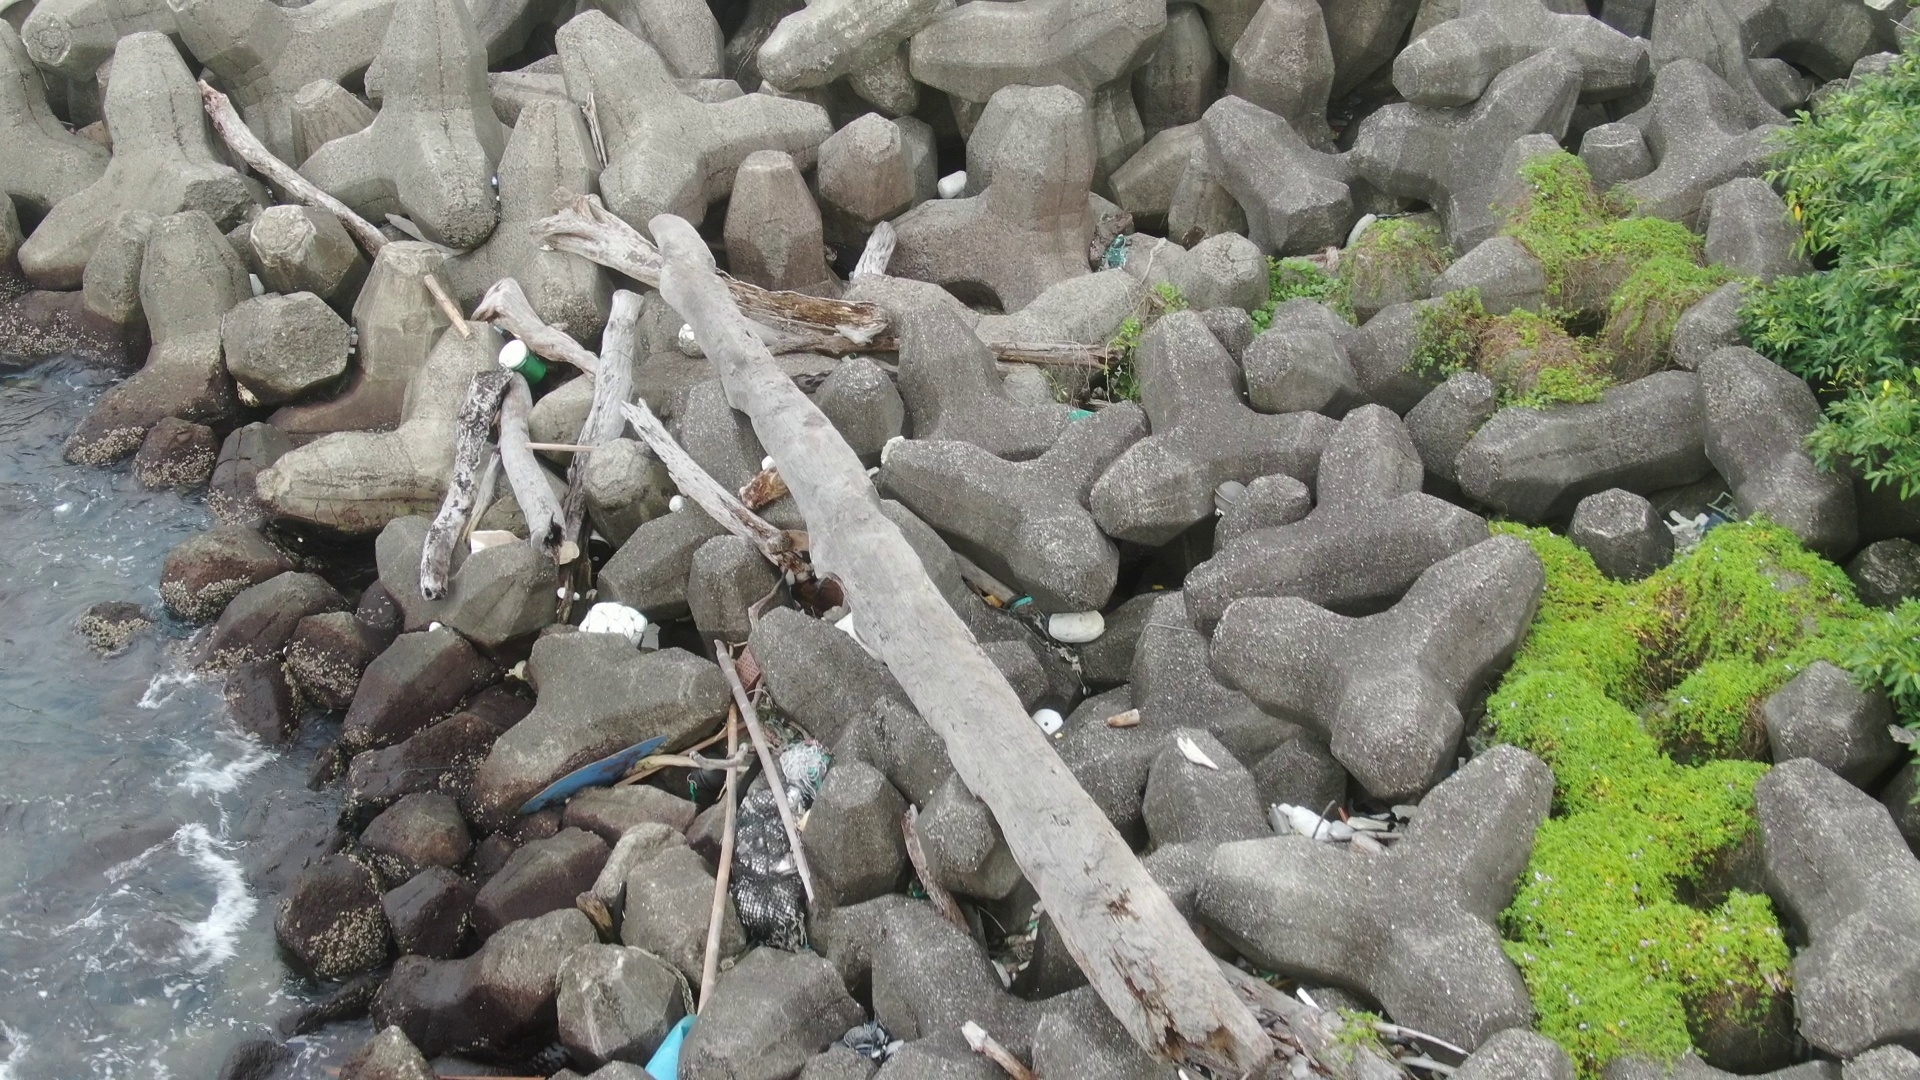garbage: (716, 704, 852, 957), (516, 727, 682, 806), (1245, 779, 1403, 858), (1662, 465, 1768, 553), (1025, 593, 1143, 654), (568, 583, 657, 651), (641, 1001, 712, 1080), (495, 334, 545, 385), (928, 165, 989, 204), (1205, 477, 1259, 517)
